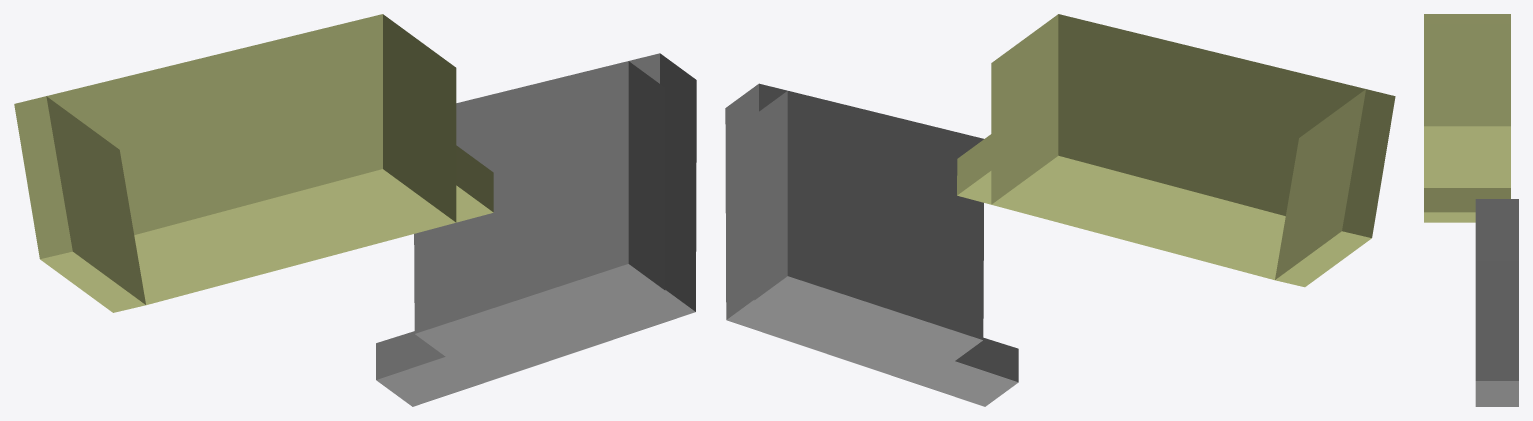
The picture shows the model from 3 angles, left to right: view 1: azimuth 30°, elevation 25°; view 2: azimuth 150°, elevation 25°; view 3: azimuth 270°, elevation 25°; orthographic projection. The views are drawn at different scales.
Visible parts, largest first — view 1: 0_2_1_3_3_0_3_1; view 2: 0_2_1_3_3_0_3_1; view 3: 0_2_1_3_3_0_3_1.
Part boxes in pixels (x1,y1,x2,y2): 0_2_1_3_3_0_3_1: (14,14,696,406); 0_2_1_3_3_0_3_1: (725,14,1395,406); 0_2_1_3_3_0_3_1: (1424,14,1518,406).
Size of the model in its own units: 30.83 by 16.75 by 6.56.
